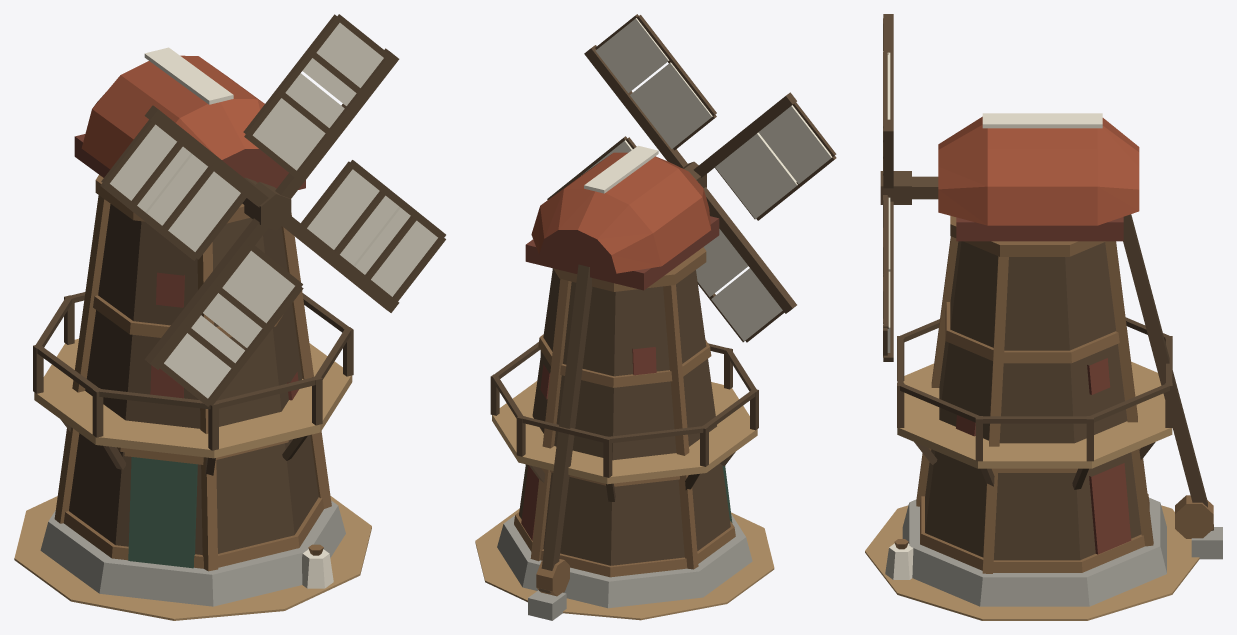
The model's file is mill.glb.
The picture shows the model from 3 angles, left to right: view 1: azimuth 30°, elevation 25°; view 2: azimuth 150°, elevation 25°; view 3: azimuth 270°, elevation 25°; orthographic projection. The views are drawn at different scales.
Visible parts, largest first — view 1: Body, Sails; view 2: Body, Sails; view 3: Body, Sails.
Boxes of the visible parts, <box> form: Body: <box>14,47,371,620</box>; Sails: <box>100,14,445,406</box>; Body: <box>475,145,774,620</box>; Sails: <box>547,14,836,342</box>; Body: <box>865,113,1222,620</box>; Sails: <box>880,14,911,361</box>.
Bounding box in the file's own units: 7.05 × 11.22 × 6.85.
Materials: 1 (1 with a texture image).
